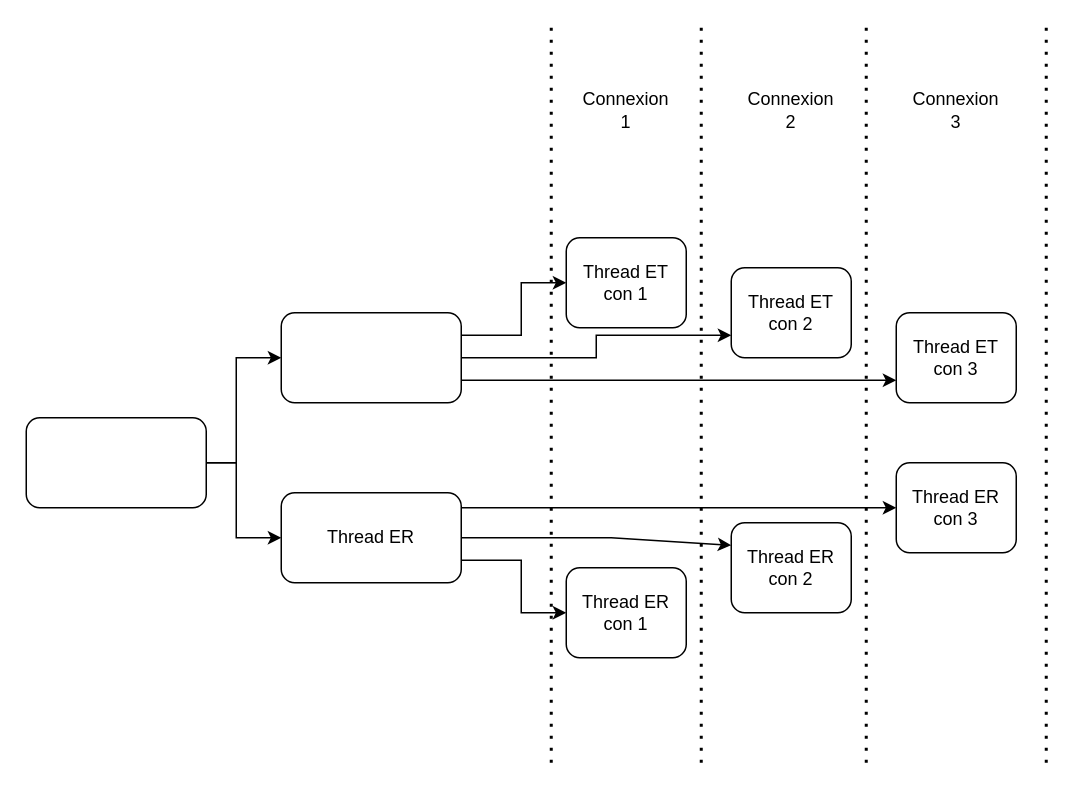
Image size: 1076x791. Some labels were removed from this diagram. The centre of each missing label's shape, as x and y in pixels:
"MAIN" goes at (x=115, y=462).
"Thread ET" goes at (x=370, y=357).
